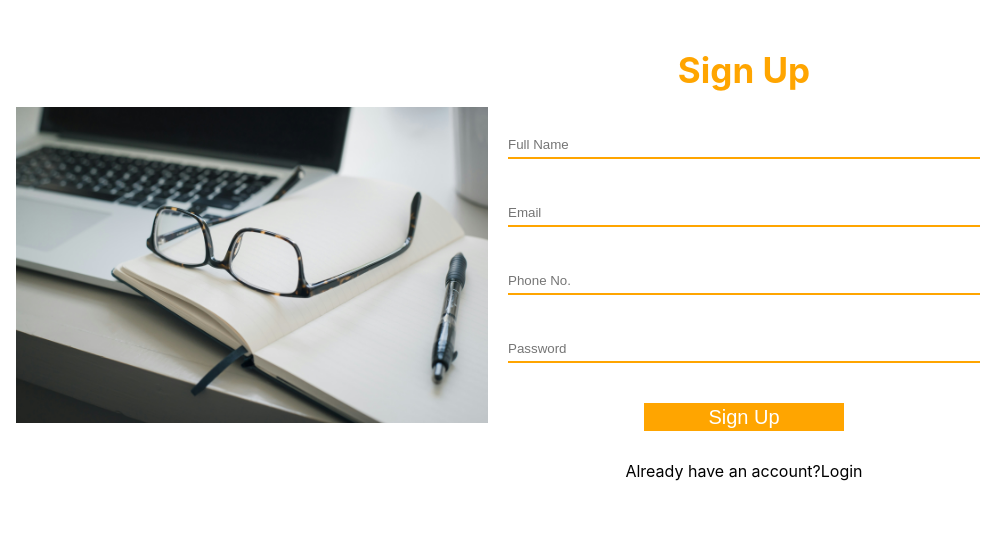
Test: Registration Component › should show error messages for invalid inputs
Step 1. Click the button "Sign Up" → (744, 417), box [644,403,844,431]
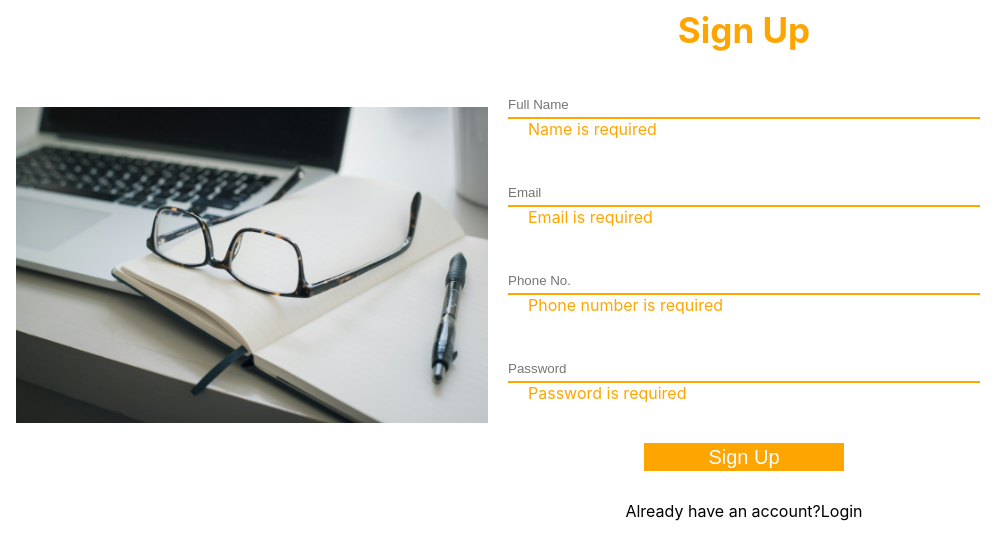
Check: the text "Name is required" is shown, box [528,119,657,139]
Check: the text "Email is required" is shown, box [528,207,653,227]
Check: the text "Phone number is required" is shown, box [528,295,723,315]
